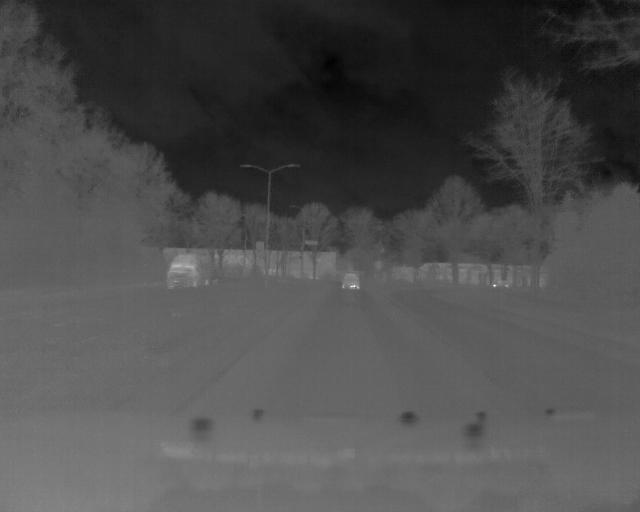car: (163, 251, 215, 291), (340, 270, 361, 291)
